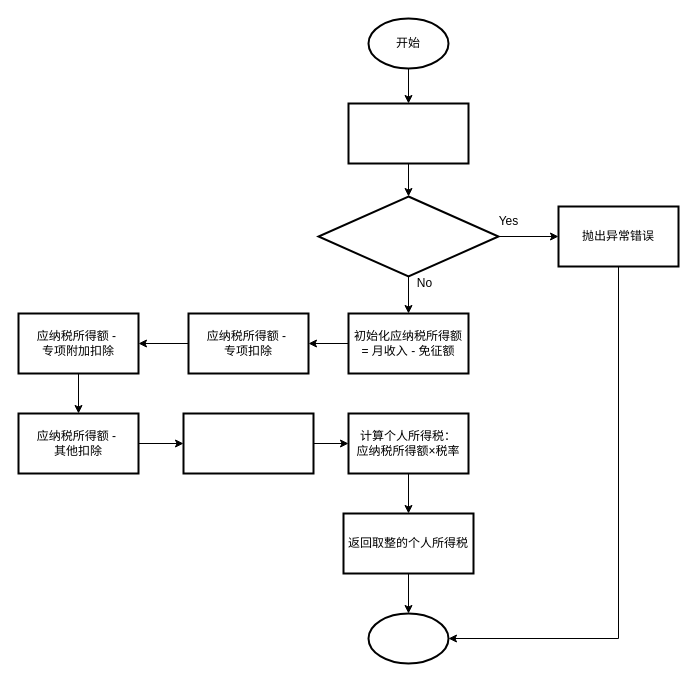
This 696x681 diagram has some shape labels left out. The centre of each missing label's shape, as x and y in pixels:
Person == Null || salary < 0 ？: (x=408, y=236)
创建一个Person对象: (x=408, y=133)
得到最终应纳税所得额: (x=248, y=443)
结束: (x=408, y=638)
